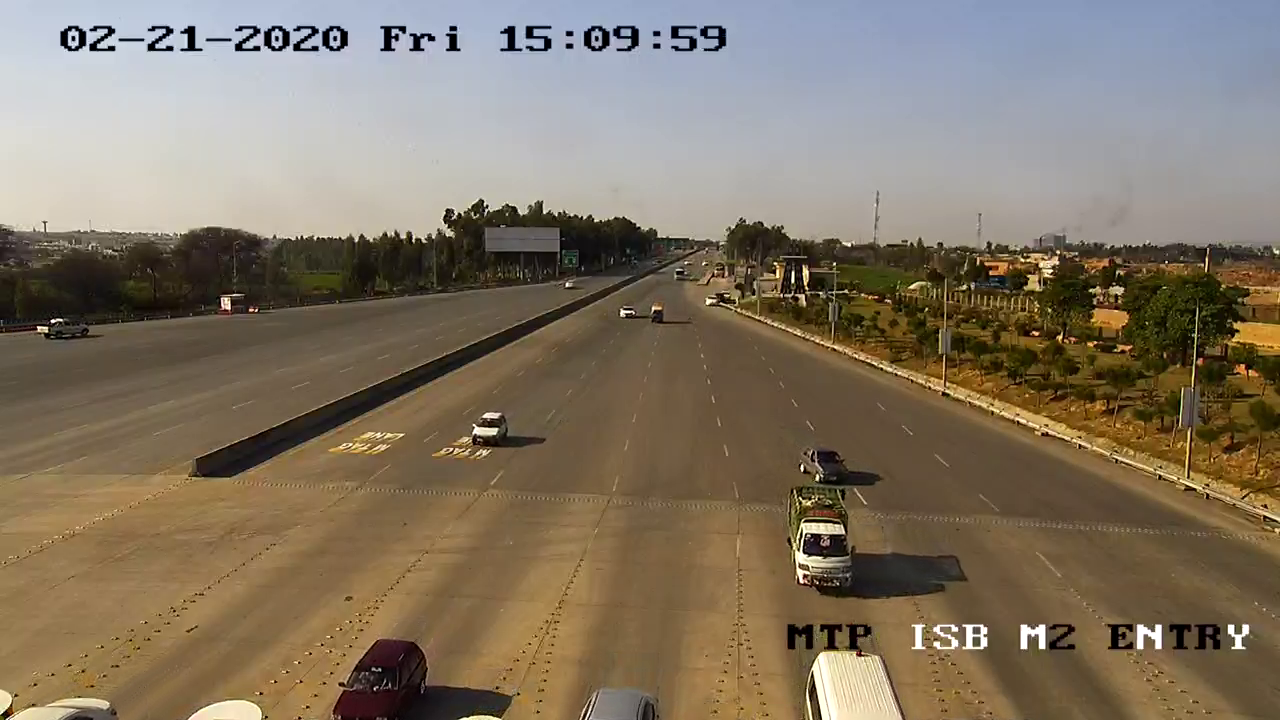f1: (469, 402, 512, 451)
f2: (784, 478, 862, 596)
